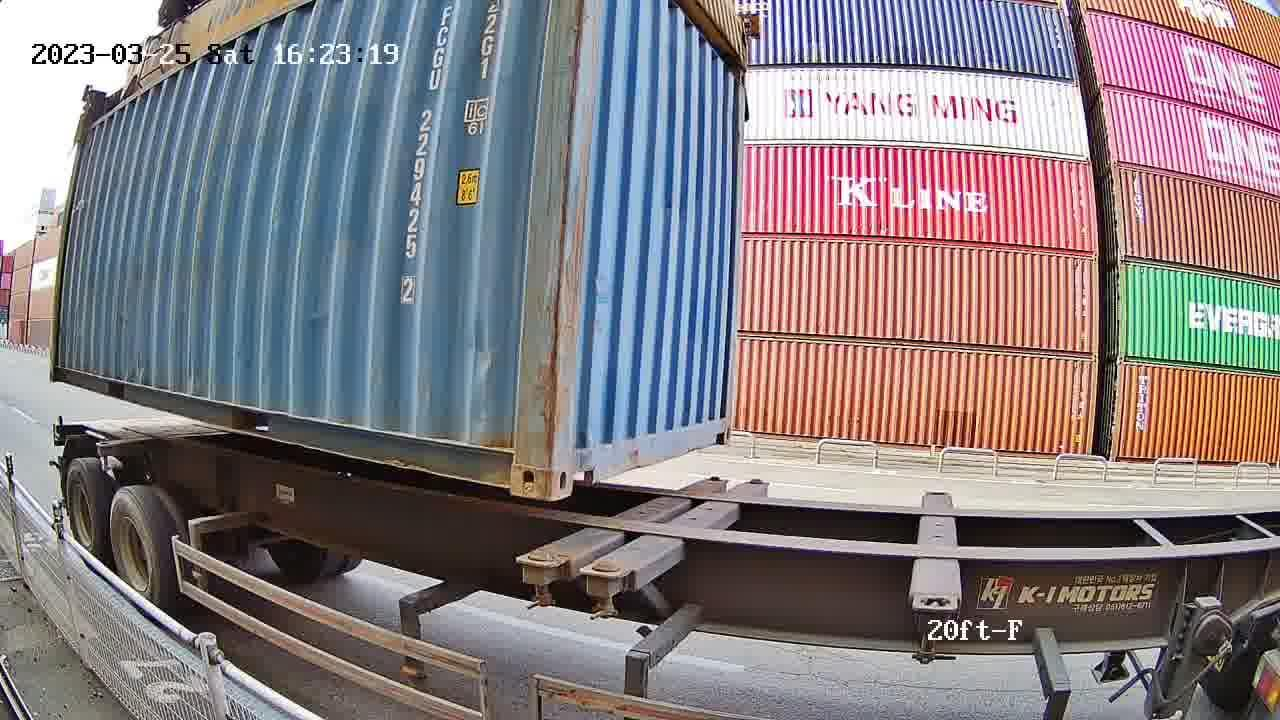Chassis: (583, 481, 769, 589), (519, 479, 727, 567)
Cone: (579, 561, 634, 618), (517, 550, 572, 606)
Hole_L: (553, 414, 605, 504)
Hole_R: (475, 418, 553, 503), (705, 401, 732, 447)
Tire: (113, 489, 164, 607), (65, 464, 106, 562)
